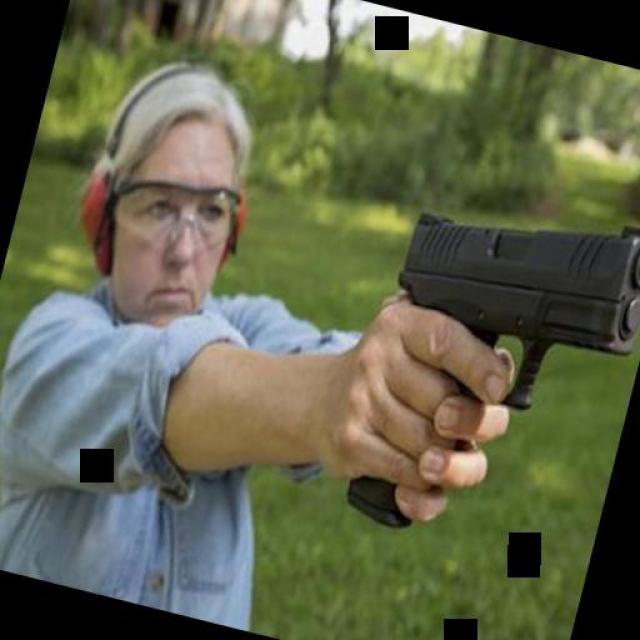gun: (332, 171, 640, 564)
